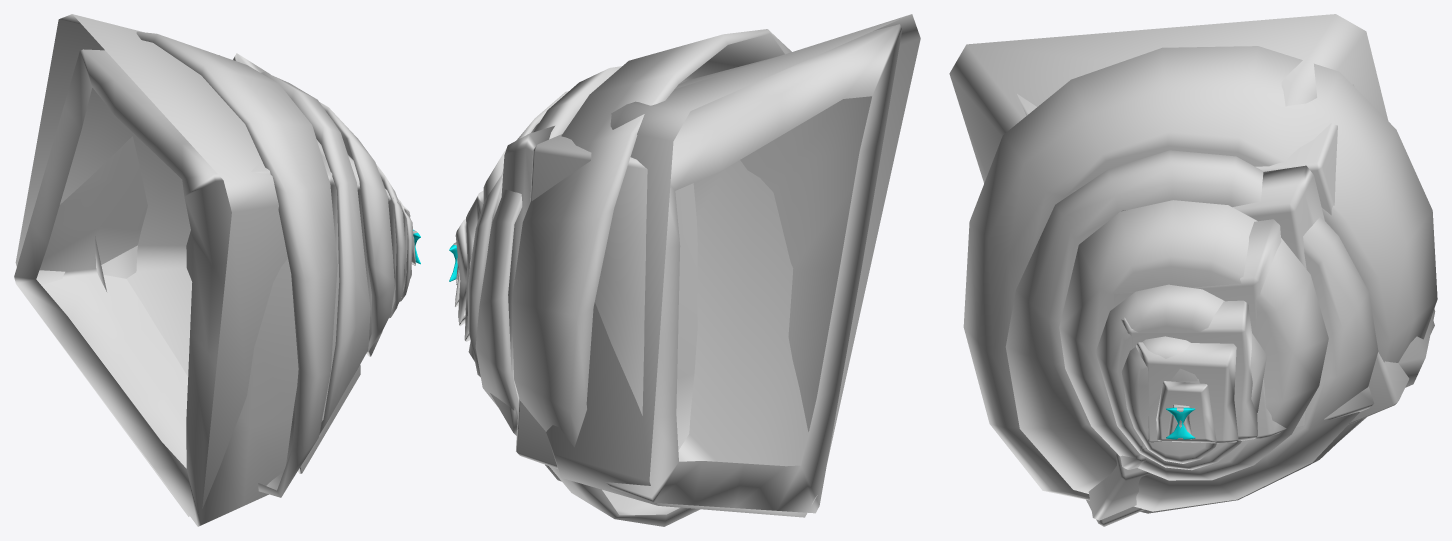
Rendered from Weak.fbx.
3 renders of one model, left to right at view 1: azimuth 30°, elevation 25°; view 2: azimuth 150°, elevation 25°; view 3: azimuth 270°, elevation 25°, orthographic. The views are drawn at different scales.
Visible parts, largest first — view 1: Weak_Body_Seperate_7, Weak_Body_Square, Weak_Body_Round, Weak_Body_Seperate_6, Weak_Body_Seperate_5, Weak_Body_Seperate_4; view 2: Weak_Body_Seperate_7, Weak_Body_Square, Weak_Body_Round, Weak_Body_Seperate_6, Weak_Body_Seperate_3, Weak_Body_Seperate_4, Weak_Body_Seperate_5; view 3: Weak_Body_Round, Weak_Body_Square, Weak_Body_Seperate_6, Weak_Body_Seperate_3, Weak_Body_Seperate_7, Weak_Body_Seperate_4, Weak_Body_Seperate_5, Weak_Body_Seperate_2.
Part boxes in pixels (left/top/right/bottom): Weak_Body_Seperate_7: left=14, top=49, right=298, bottom=526; Weak_Body_Square: left=15, top=14, right=287, bottom=516; Weak_Body_Round: left=95, top=31, right=413, bottom=497; Weak_Body_Seperate_6: left=233, top=53, right=360, bottom=473; Weak_Body_Seperate_5: left=348, top=155, right=382, bottom=356; Weak_Body_Seperate_4: left=385, top=188, right=400, bottom=311; Weak_Body_Seperate_7: left=516, top=24, right=902, bottom=513; Weak_Body_Square: left=546, top=14, right=920, bottom=517; Weak_Body_Round: left=467, top=29, right=791, bottom=526; Weak_Body_Seperate_6: left=490, top=126, right=554, bottom=435; Weak_Body_Seperate_3: left=455, top=219, right=467, bottom=326; Weak_Body_Seperate_4: left=464, top=190, right=483, bottom=341; Weak_Body_Seperate_5: left=468, top=148, right=506, bottom=361; Weak_Body_Round: left=963, top=46, right=1437, bottom=513; Weak_Body_Square: left=949, top=14, right=1435, bottom=387; Weak_Body_Seperate_6: left=1088, top=165, right=1374, bottom=520; Weak_Body_Seperate_3: left=1136, top=342, right=1238, bottom=443; Weak_Body_Seperate_7: left=1017, top=84, right=1434, bottom=526; Weak_Body_Seperate_4: left=1121, top=300, right=1257, bottom=450; Weak_Body_Seperate_5: left=1114, top=219, right=1286, bottom=469; Weak_Body_Seperate_2: left=1156, top=381, right=1216, bottom=443.
Bounding box in the file's own units: 518 × 724 × 685.
